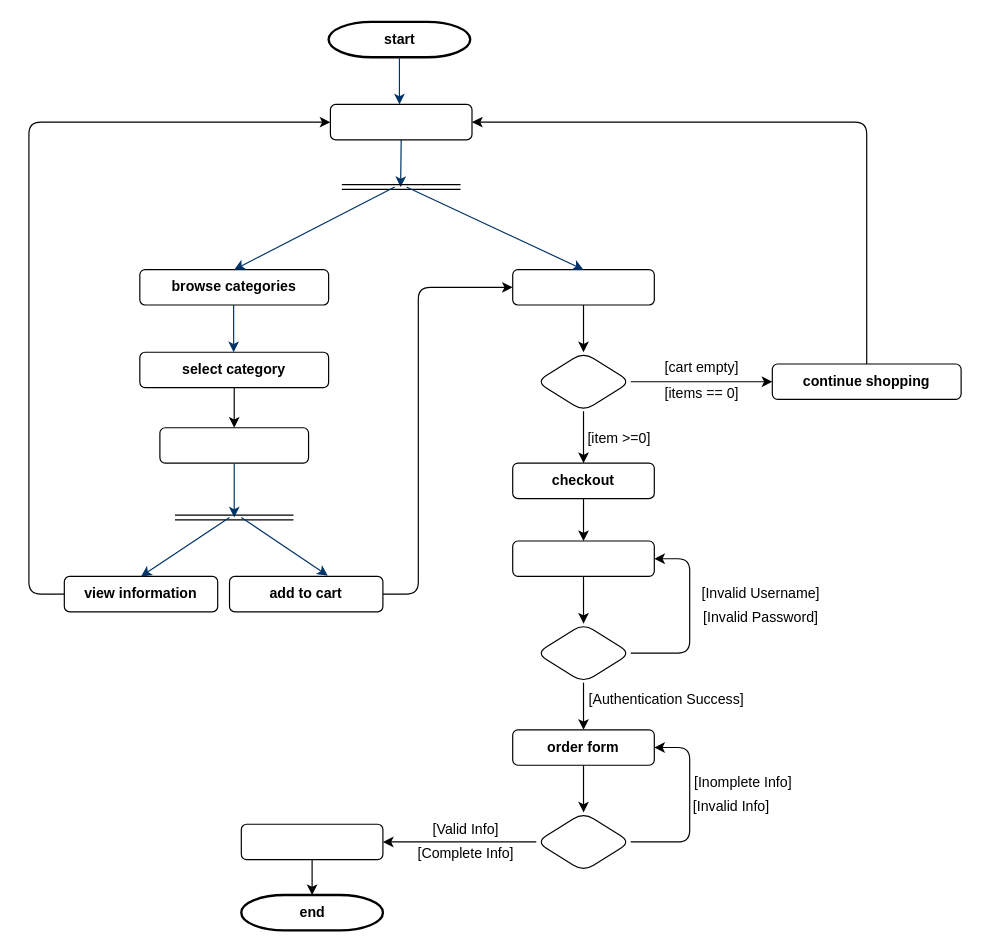
The diagram is 982 pixels wide and 951 high, and some of its shapes have lost their labels. The shapes that lost their labels are listed below. From the top down, each one's box as (x1, y1, x2, y2) in pixels, then its label:
(329, 103, 472, 140): home page
(512, 268, 654, 305): view cart
(159, 427, 309, 463): select items
(512, 540, 654, 576): login
(240, 823, 383, 860): place order
